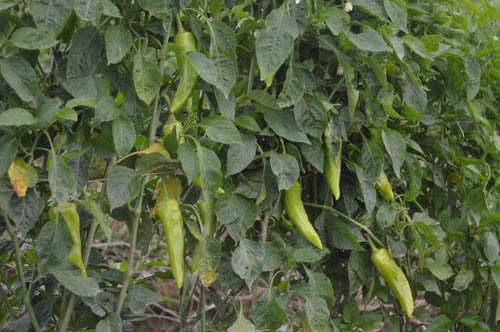ChiliPepper: (368, 249, 413, 316), (284, 180, 322, 251), (48, 203, 83, 272), (170, 32, 198, 113), (161, 198, 185, 288), (325, 134, 345, 203), (196, 197, 216, 253), (371, 170, 396, 200)
